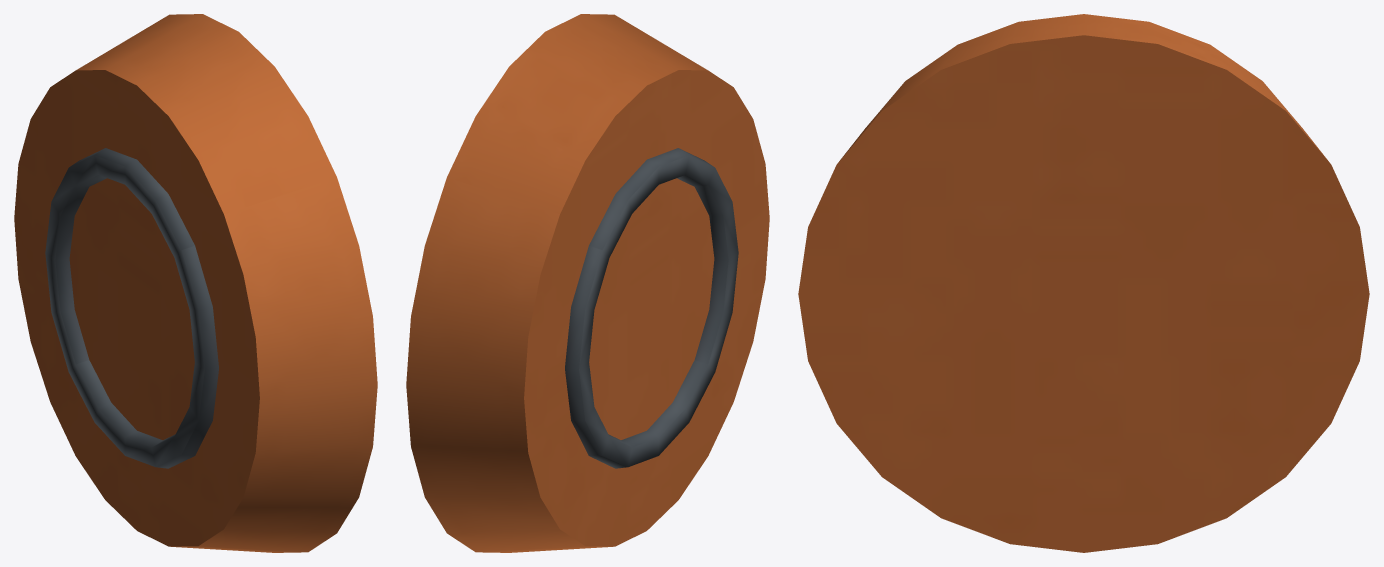
File: prop_test_power.fbx
The picture shows the model from 3 angles, left to right: view 1: azimuth 30°, elevation 25°; view 2: azimuth 150°, elevation 25°; view 3: azimuth 270°, elevation 25°; orthographic projection. The views are drawn at different scales.
Parts seen in each view (by area): view 1: SM_prop_test_power; view 2: SM_prop_test_power; view 3: SM_prop_test_power.
Part boxes in pixels (bbox=[...]): SM_prop_test_power: bbox=[14, 14, 377, 552]; SM_prop_test_power: bbox=[406, 14, 769, 552]; SM_prop_test_power: bbox=[798, 14, 1369, 552].
Bounding box in the file's own units: 0.0123 × 0.052 × 0.052.
Materials: 2 (2 with a texture image).
